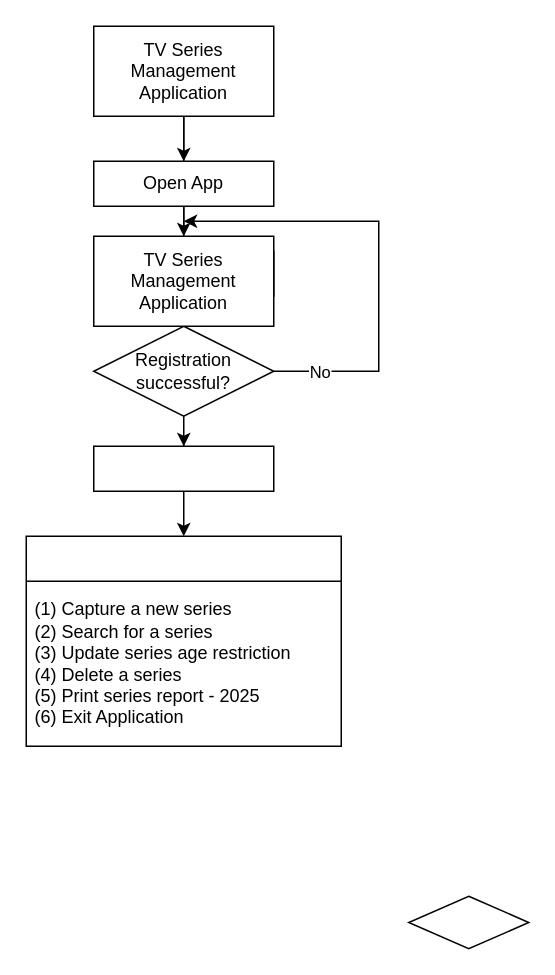
The diagram is 555 pixels wide and 975 high, and some of its shapes have lost their labels. Each missing label, with the box of its shape:
JSON: (407, 895, 529, 949)
Menu: (25, 535, 341, 746)
Open Application: (92, 445, 274, 491)
